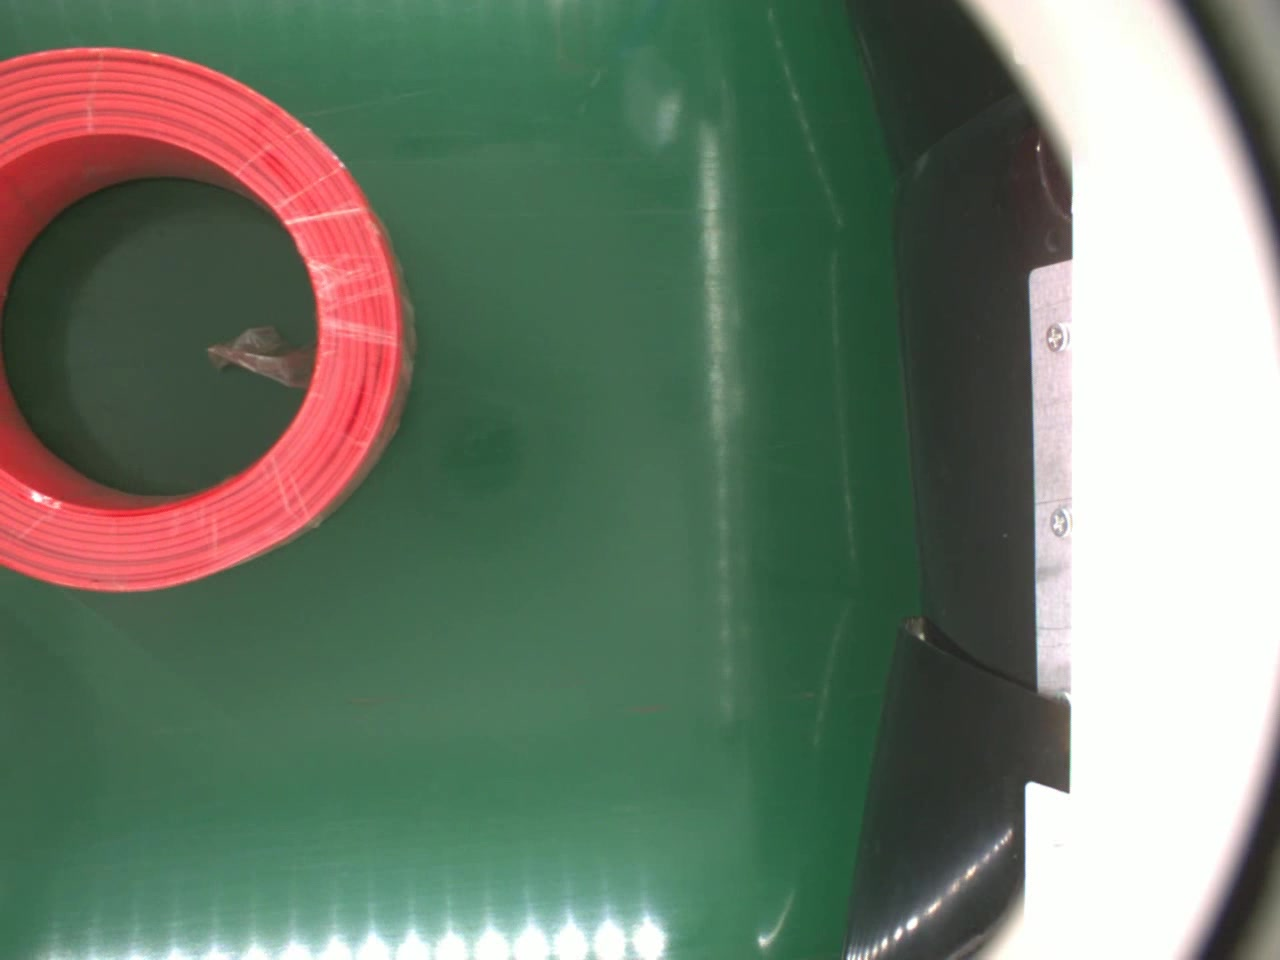red: (0, 42, 413, 592)
